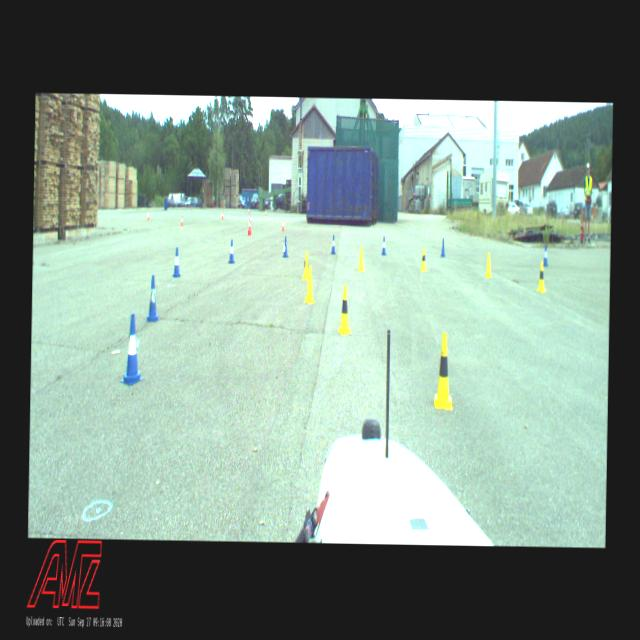blue_cone: (122, 312, 144, 385), (146, 275, 160, 322), (172, 246, 180, 276), (228, 240, 234, 263), (282, 236, 288, 257), (542, 246, 548, 265), (440, 238, 446, 256), (381, 236, 386, 254), (331, 234, 335, 254)
orange_cone: (281, 220, 284, 230), (180, 214, 182, 226), (248, 218, 250, 230), (147, 212, 149, 220), (222, 211, 224, 219), (264, 208, 266, 216)
yellow_cone: (434, 332, 453, 408), (336, 284, 352, 334), (304, 266, 315, 304), (537, 261, 546, 292), (484, 254, 492, 278), (302, 250, 308, 278), (420, 247, 427, 270), (358, 246, 364, 270)
